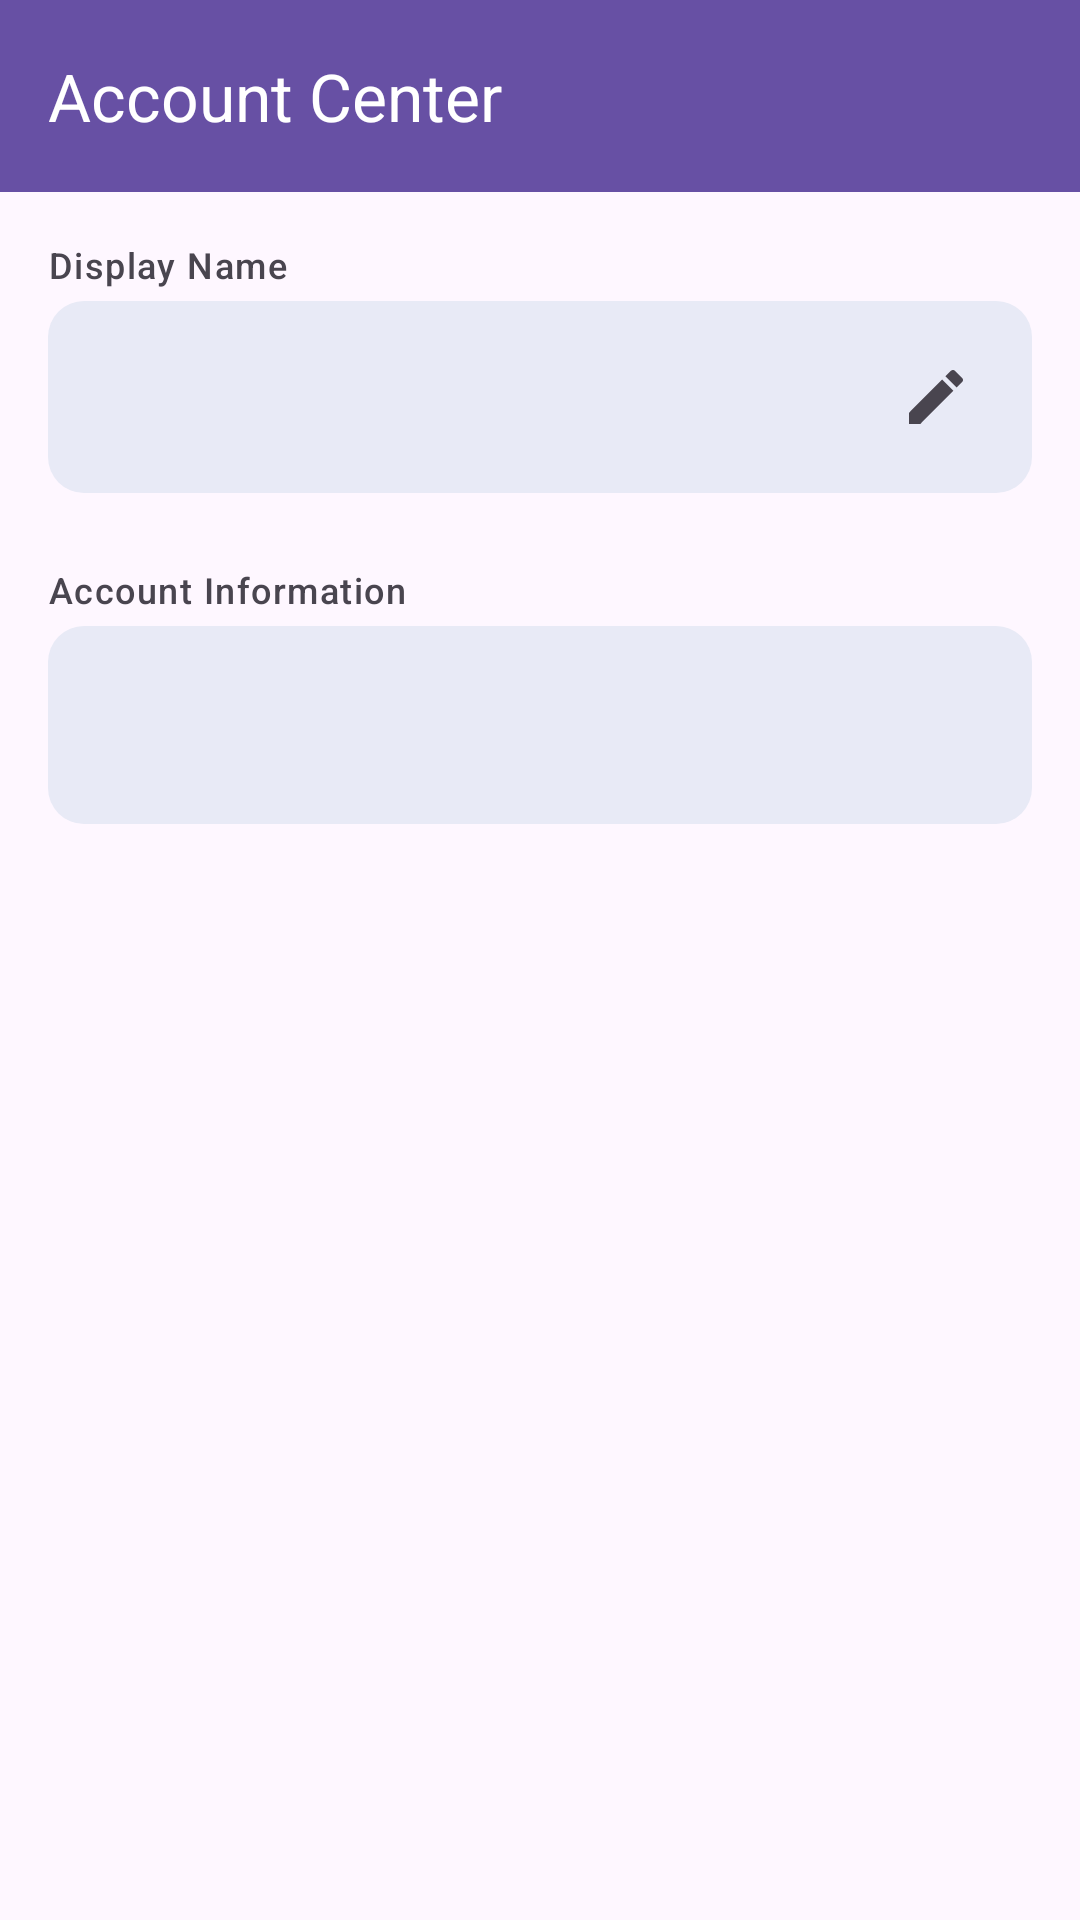

Locate icon controls on the screen. Image size 1080px x 1920px, boxes as (x1,y1,x2,y2).
Edit Display Name: (909,370,963,424)
